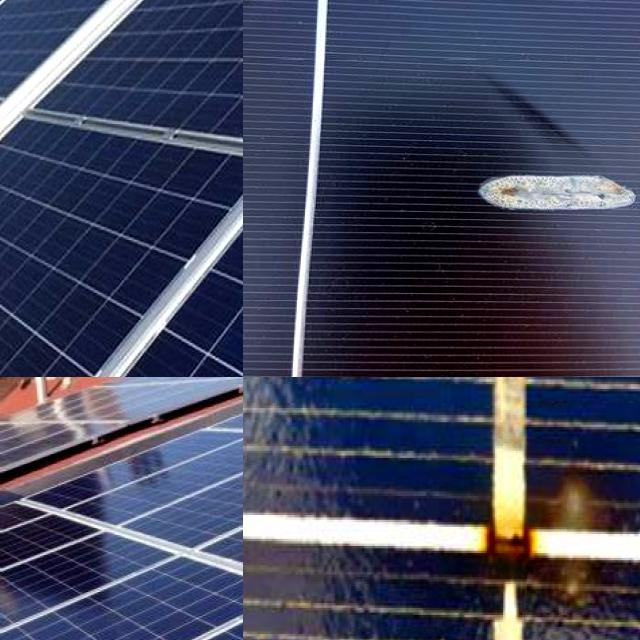crack: (3, 377, 243, 640), (11, 117, 243, 377), (131, 0, 243, 203), (10, 123, 142, 292), (0, 208, 116, 377)
shadow: (437, 423, 617, 640), (448, 168, 640, 225), (243, 0, 353, 70)
